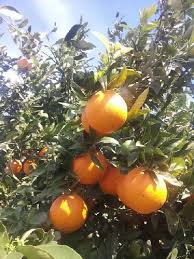orange: (119, 162, 168, 212), (85, 89, 128, 130), (49, 193, 89, 233), (69, 148, 107, 185)
